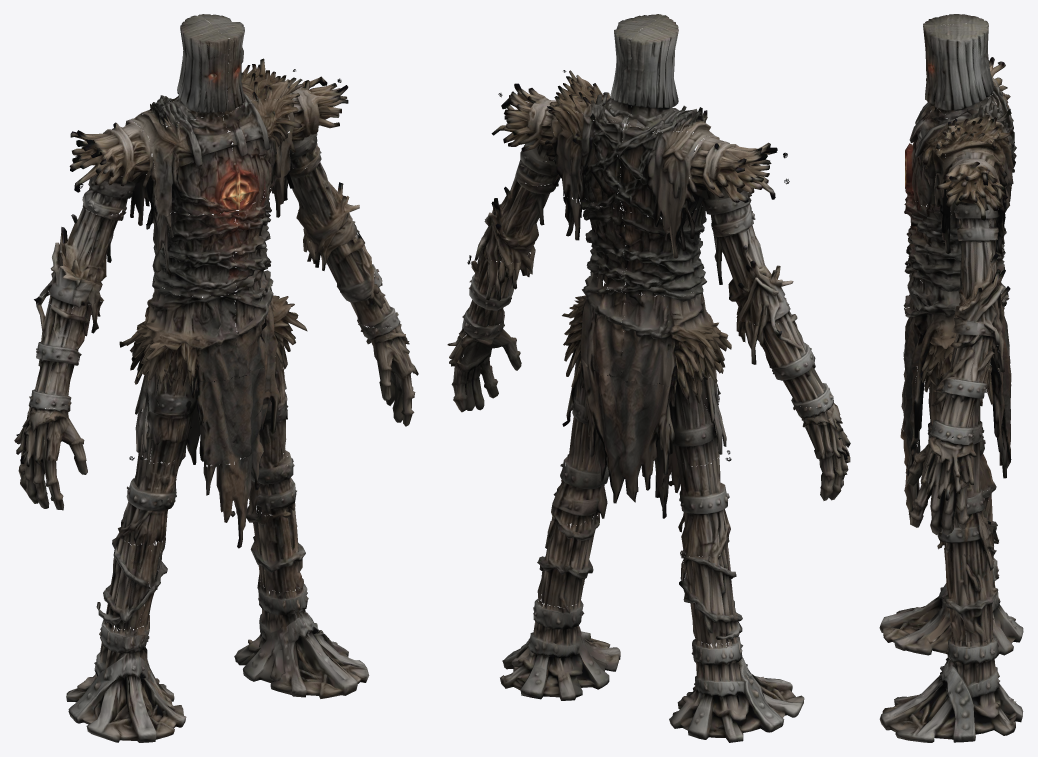
File: scarecrow.glb
3 renders of one model, left to right at view 1: azimuth 30°, elevation 25°; view 2: azimuth 150°, elevation 25°; view 3: azimuth 270°, elevation 25°, orthographic. The views are drawn at different scales.
Visible parts, largest first — view 1: Mesh; view 2: Mesh; view 3: Mesh.
Boxes of the visible parts, bbox=[...] form: Mesh: bbox=[14, 14, 418, 742]; Mesh: bbox=[447, 14, 850, 742]; Mesh: bbox=[879, 14, 1023, 742].
Bounding box in the file's own units: 1.73 × 2.8 × 0.5577.
1 material, 1 textured.
